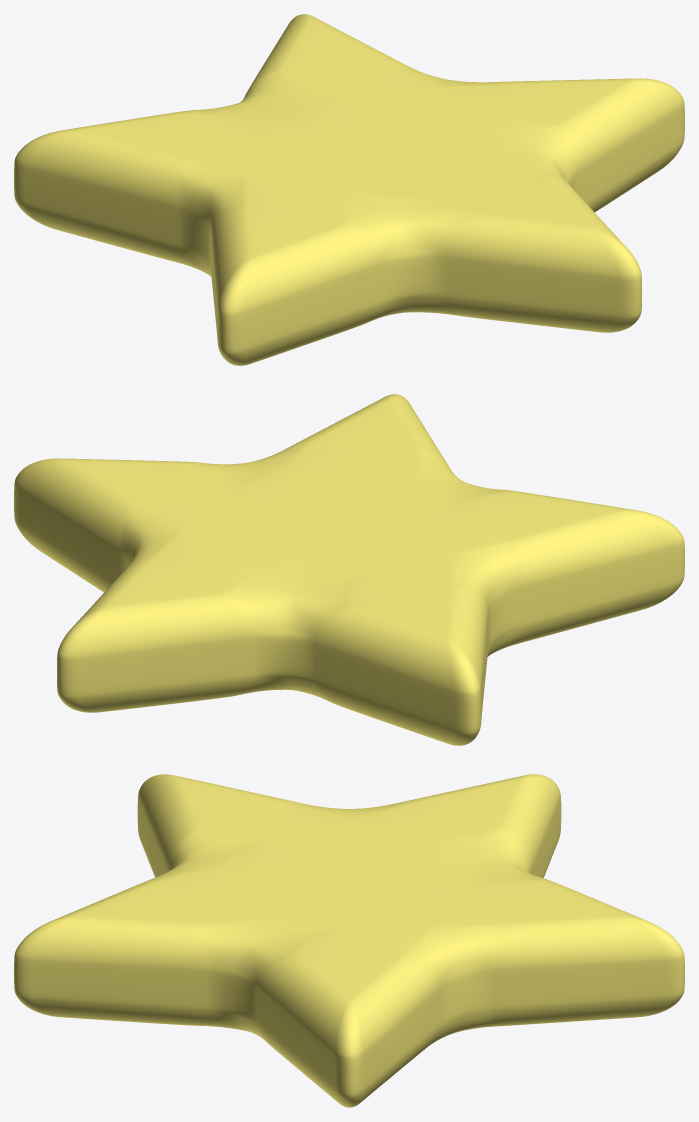
Rendered from stars_3.glb.
3 views of the same model, one above another, from view 1: azimuth 30°, elevation 25°; view 2: azimuth 150°, elevation 25°; view 3: azimuth 270°, elevation 25° (orthographic). The views are drawn at different scales.
Parts seen in each view (by area): view 1: Star; view 2: Star; view 3: Star.
Part boxes in pixels (<box>): Star: <box>14,14,684,365</box>; Star: <box>14,394,684,745</box>; Star: <box>14,774,684,1107</box>.
Bounding box in the file's own units: 1.74 × 0.3 × 1.82.
